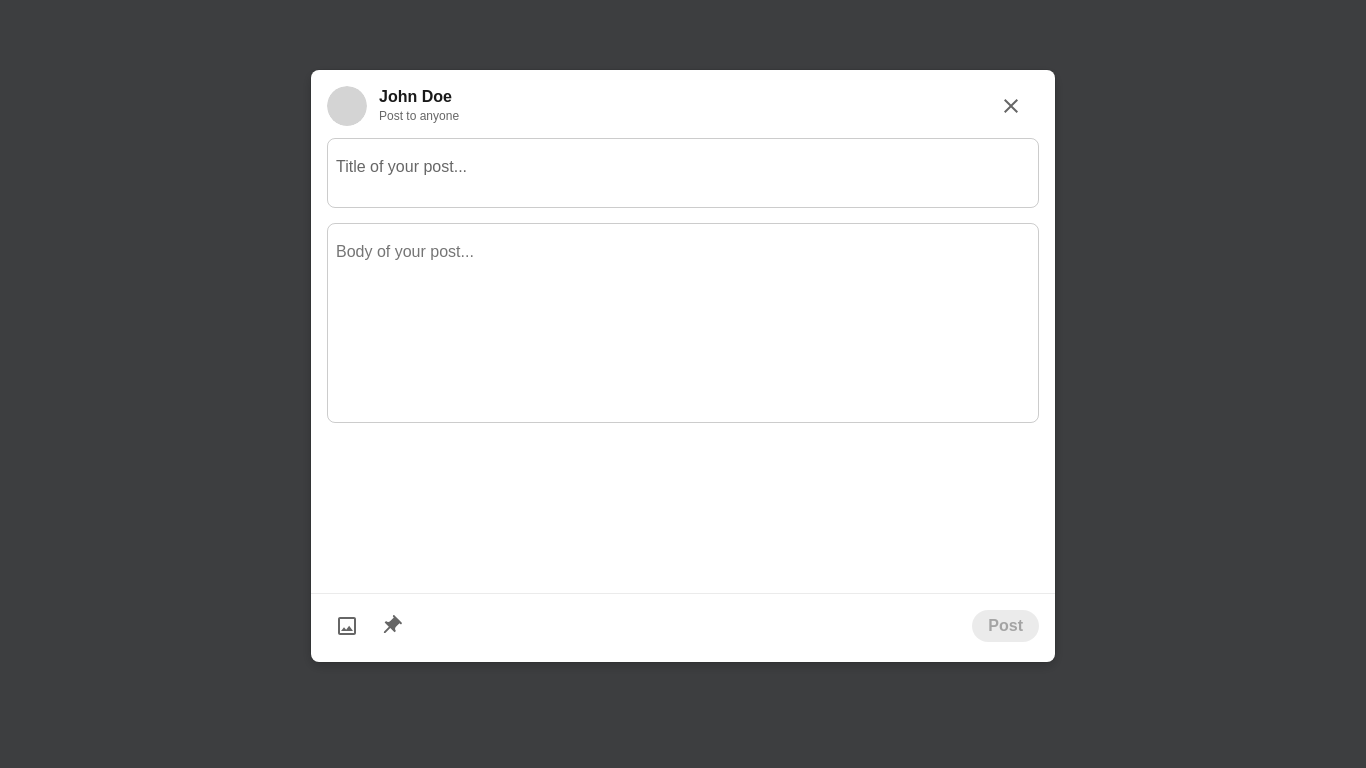
Test: CreatePostModal Integration Tests › Form Input Handling › enables post button when title has content
Type "Test Title" into the text box with placeholder "Title of your post..." at (683, 173), box [327, 138, 1039, 208]
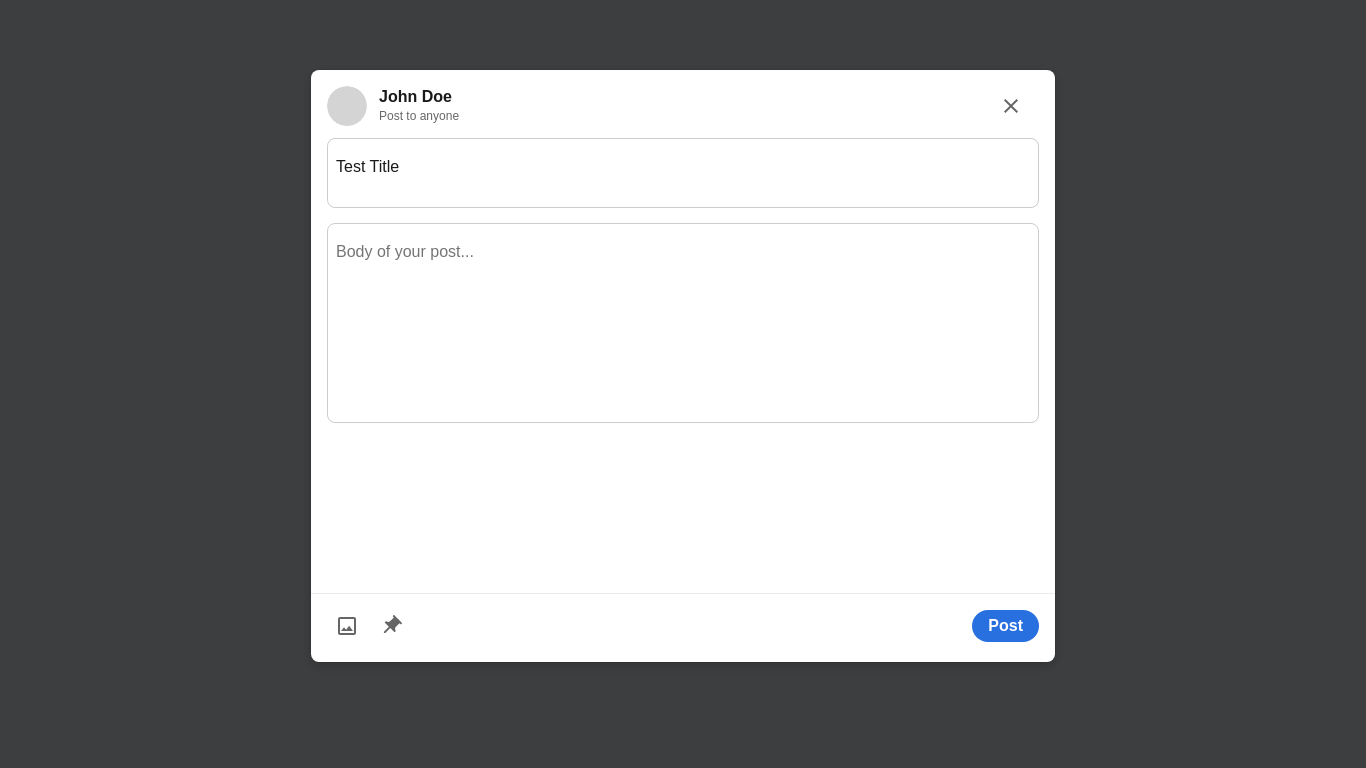
Result: the button with test id "createPostBtn" is enabled at [972, 610, 1039, 642]
